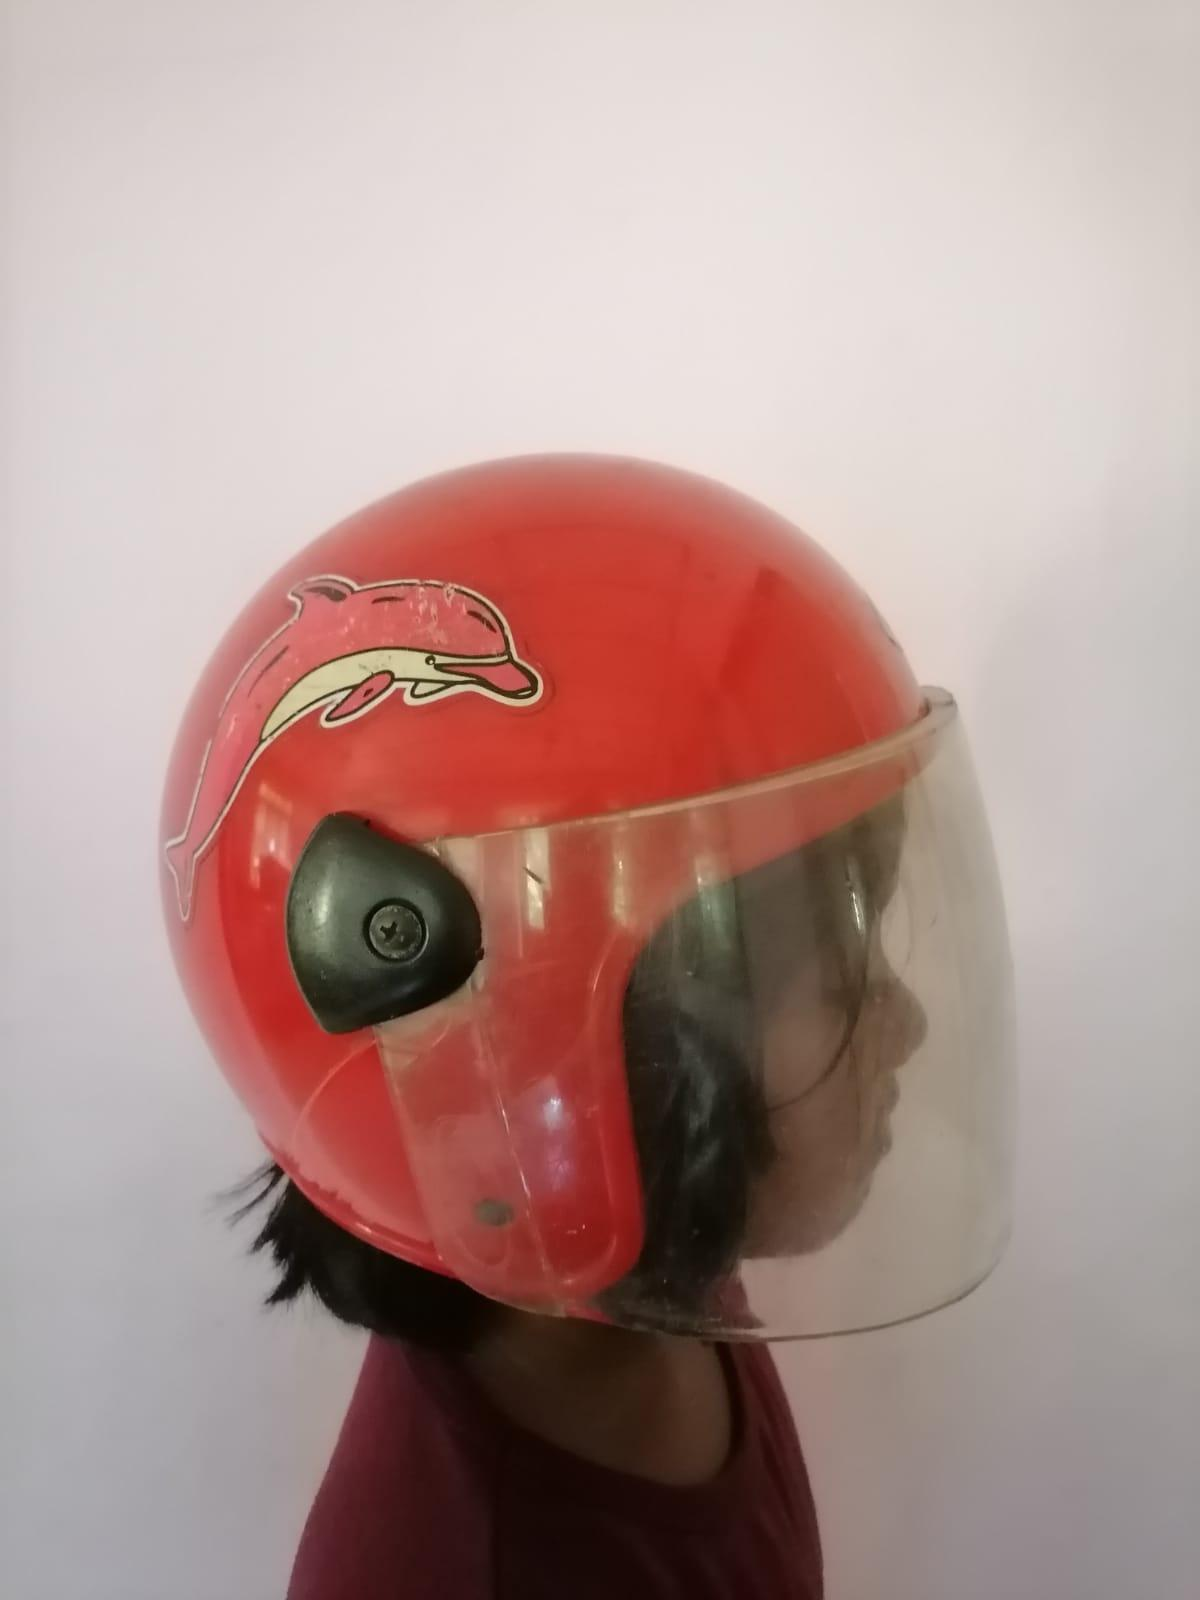helmet: (154, 449, 1024, 1349)
